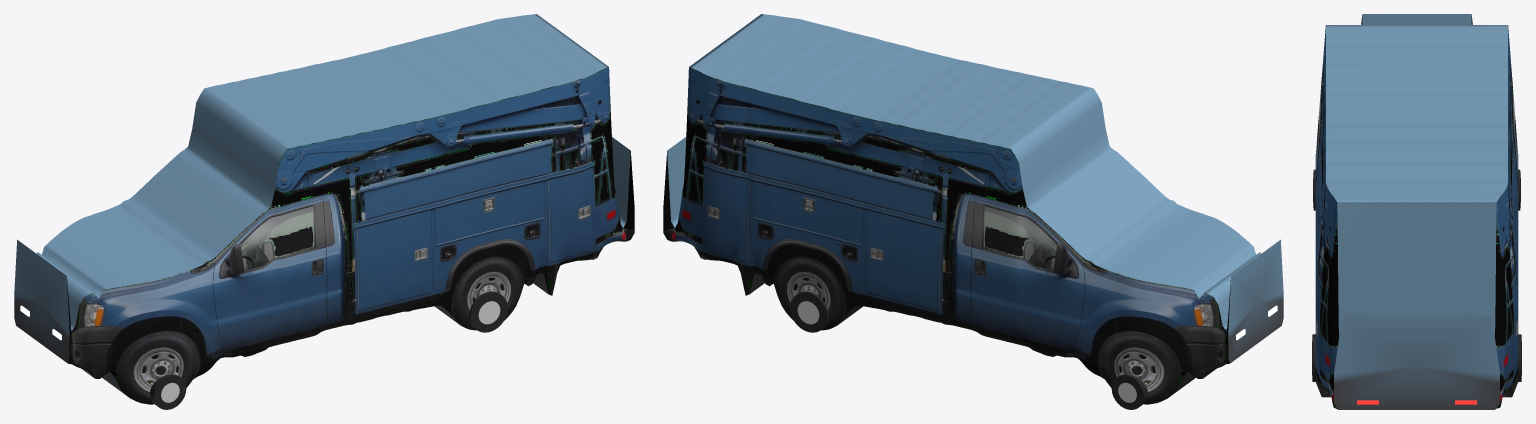
File: utility.glb
The picture shows the model from 3 angles, left to right: view 1: azimuth 30°, elevation 25°; view 2: azimuth 150°, elevation 25°; view 3: azimuth 270°, elevation 25°; orthographic projection. The views are drawn at different scales.
Visible parts, largest first — view 1: utility; view 2: utility; view 3: utility.
Boxes of the visible parts, x1,y1,x2,y2 form: utility: (14,14,634,409); utility: (663,14,1283,409); utility: (1312,14,1521,409).
Bounding box in the file's own units: 5.53 × 2.15 × 1.64.
Materials: 8 (2 with a texture image).
